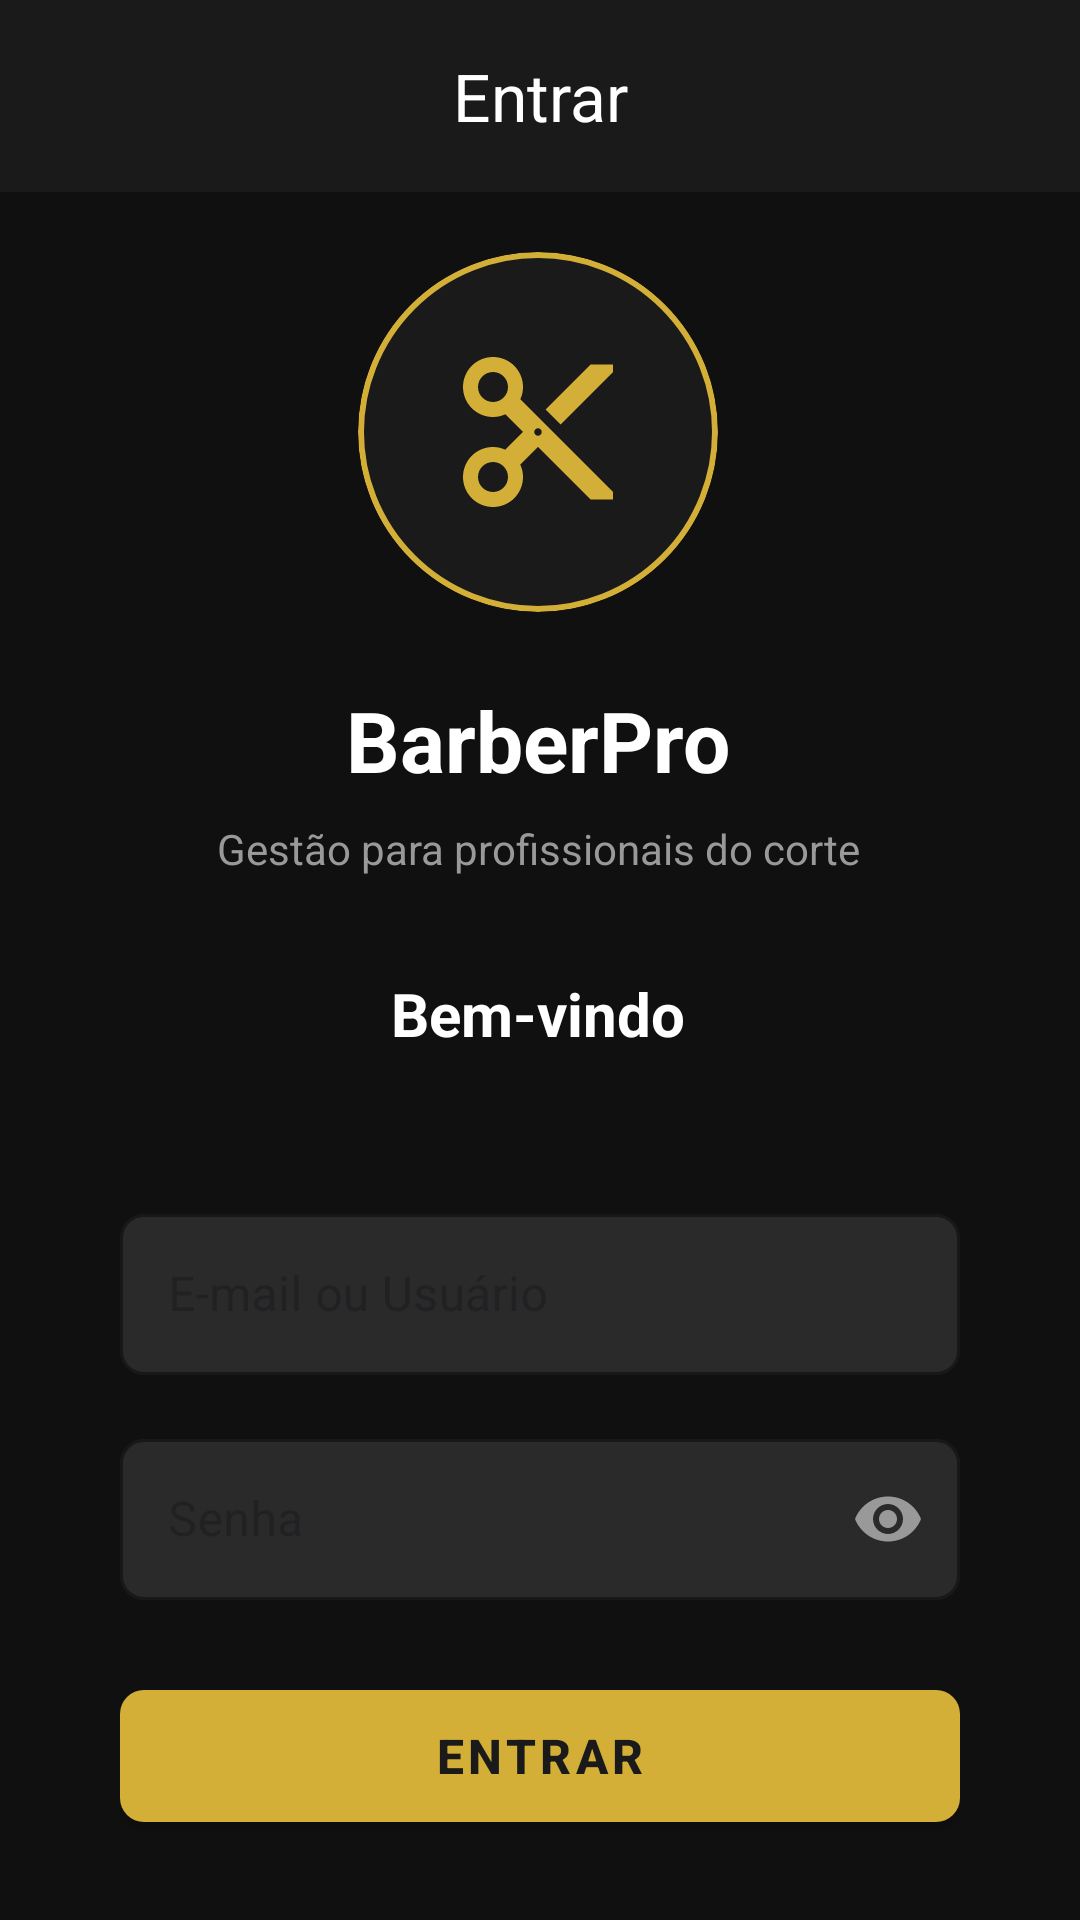

Screen size 1080 x 1920. Icon name, then its box in pixels as (x1, y1, x2, y2):
scissors: (463, 357, 613, 507)
